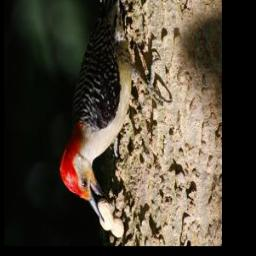Woodpecker: (60, 0, 175, 223)
